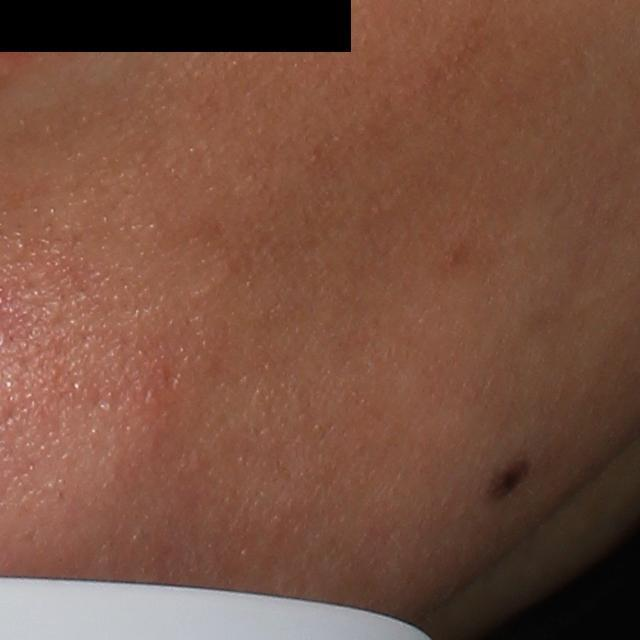nevus: (485, 458, 533, 502)
